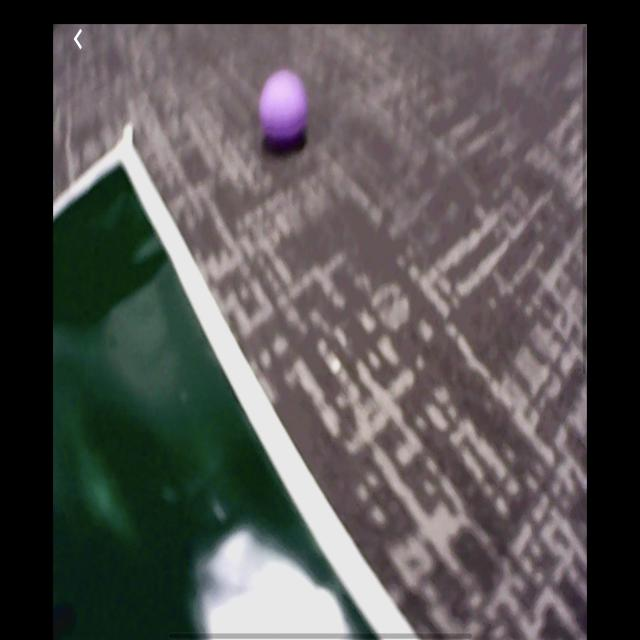ball: (259, 68, 310, 152)
